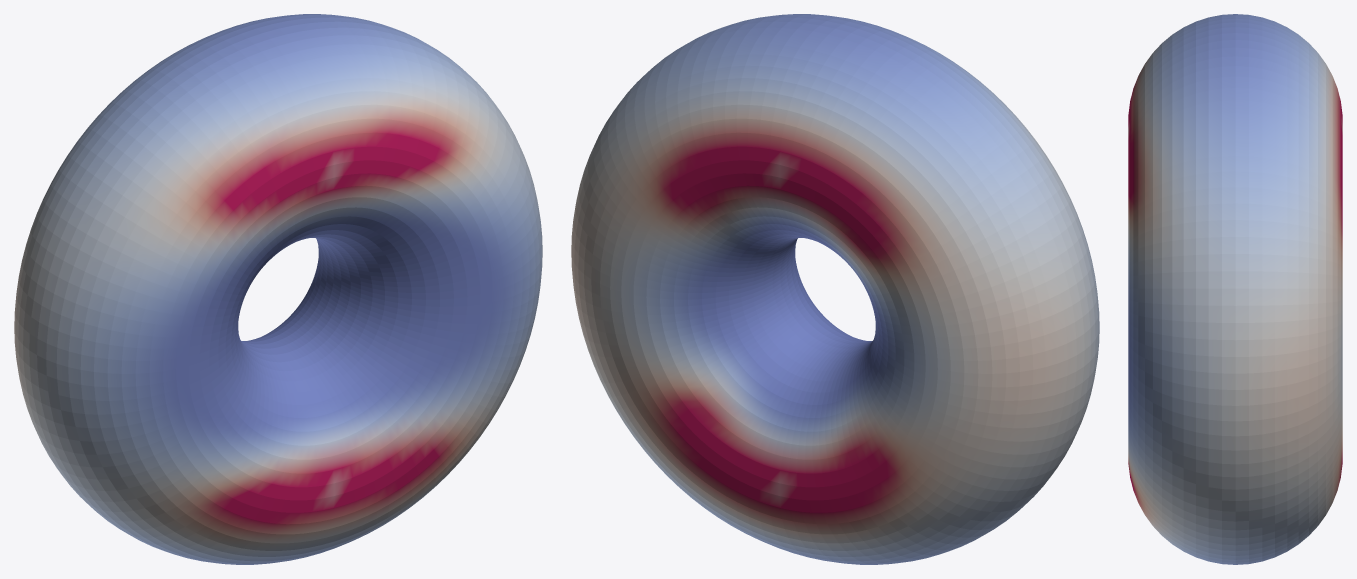
3 views of the same model, side by side, from view 1: azimuth 30°, elevation 25°; view 2: azimuth 150°, elevation 25°; view 3: azimuth 270°, elevation 25° (orthographic). The views are drawn at different scales.
Parts seen in each view (by area): view 1: world; view 2: world; view 3: world.
Part boxes in pixels (box(x1,y1,x2,y2)): world: box(14, 14, 542, 564); world: box(571, 14, 1099, 564); world: box(1128, 14, 1342, 564).
Bounding box in the file's own units: 17.47 × 17.47 × 6.79.
